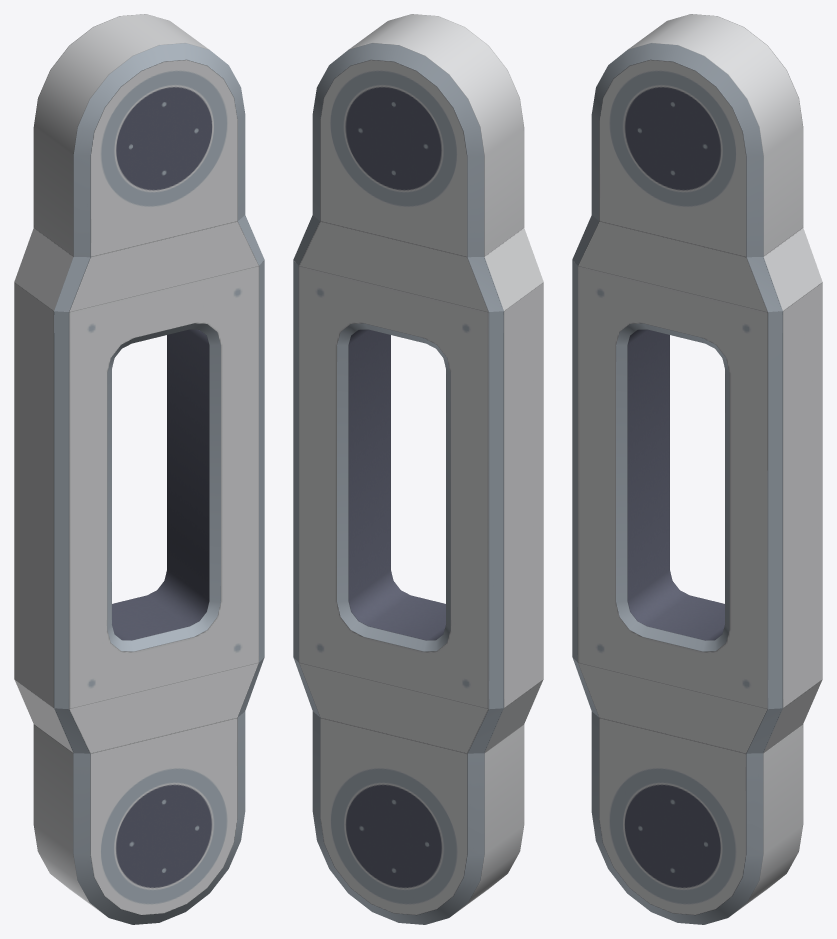
The model's file is Articulated_Arm_04.FBX.
The picture shows the model from 3 angles, left to right: view 1: azimuth 30°, elevation 25°; view 2: azimuth 150°, elevation 25°; view 3: azimuth 330°, elevation 25°; orthographic projection.
Parts seen in each view (by area): view 1: Articulated_Arm_04; view 2: Articulated_Arm_04; view 3: Articulated_Arm_04.
Boxes of the visible parts, bbox=[...] form: Articulated_Arm_04: bbox=[14, 14, 264, 924]; Articulated_Arm_04: bbox=[293, 14, 543, 924]; Articulated_Arm_04: bbox=[572, 14, 822, 924].
Bounding box in the file's own units: 2.22 × 8.84 × 0.9.
